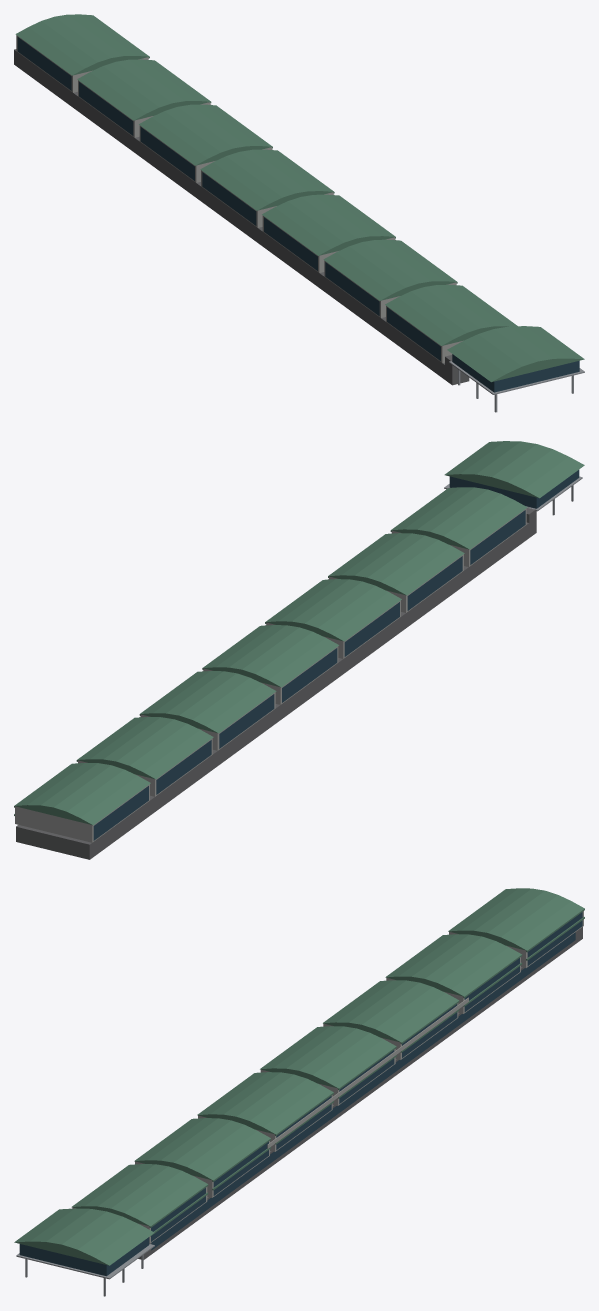
The model's file is pit_building.glb.
The picture shows the model from 3 angles, top to bottom: view 1: azimuth 30°, elevation 25°; view 2: azimuth 150°, elevation 25°; view 3: azimuth 330°, elevation 25°; orthographic projection.
Visible parts, largest first — view 1: chunk_0_0; view 2: chunk_0_0; view 3: chunk_0_0.
Part boxes in pixels (bbox=[...]): chunk_0_0: bbox=[14, 14, 584, 412]; chunk_0_0: bbox=[14, 441, 584, 859]; chunk_0_0: bbox=[14, 888, 584, 1296].
Bounding box in the file's own units: 44 × 20.2 × 391.
